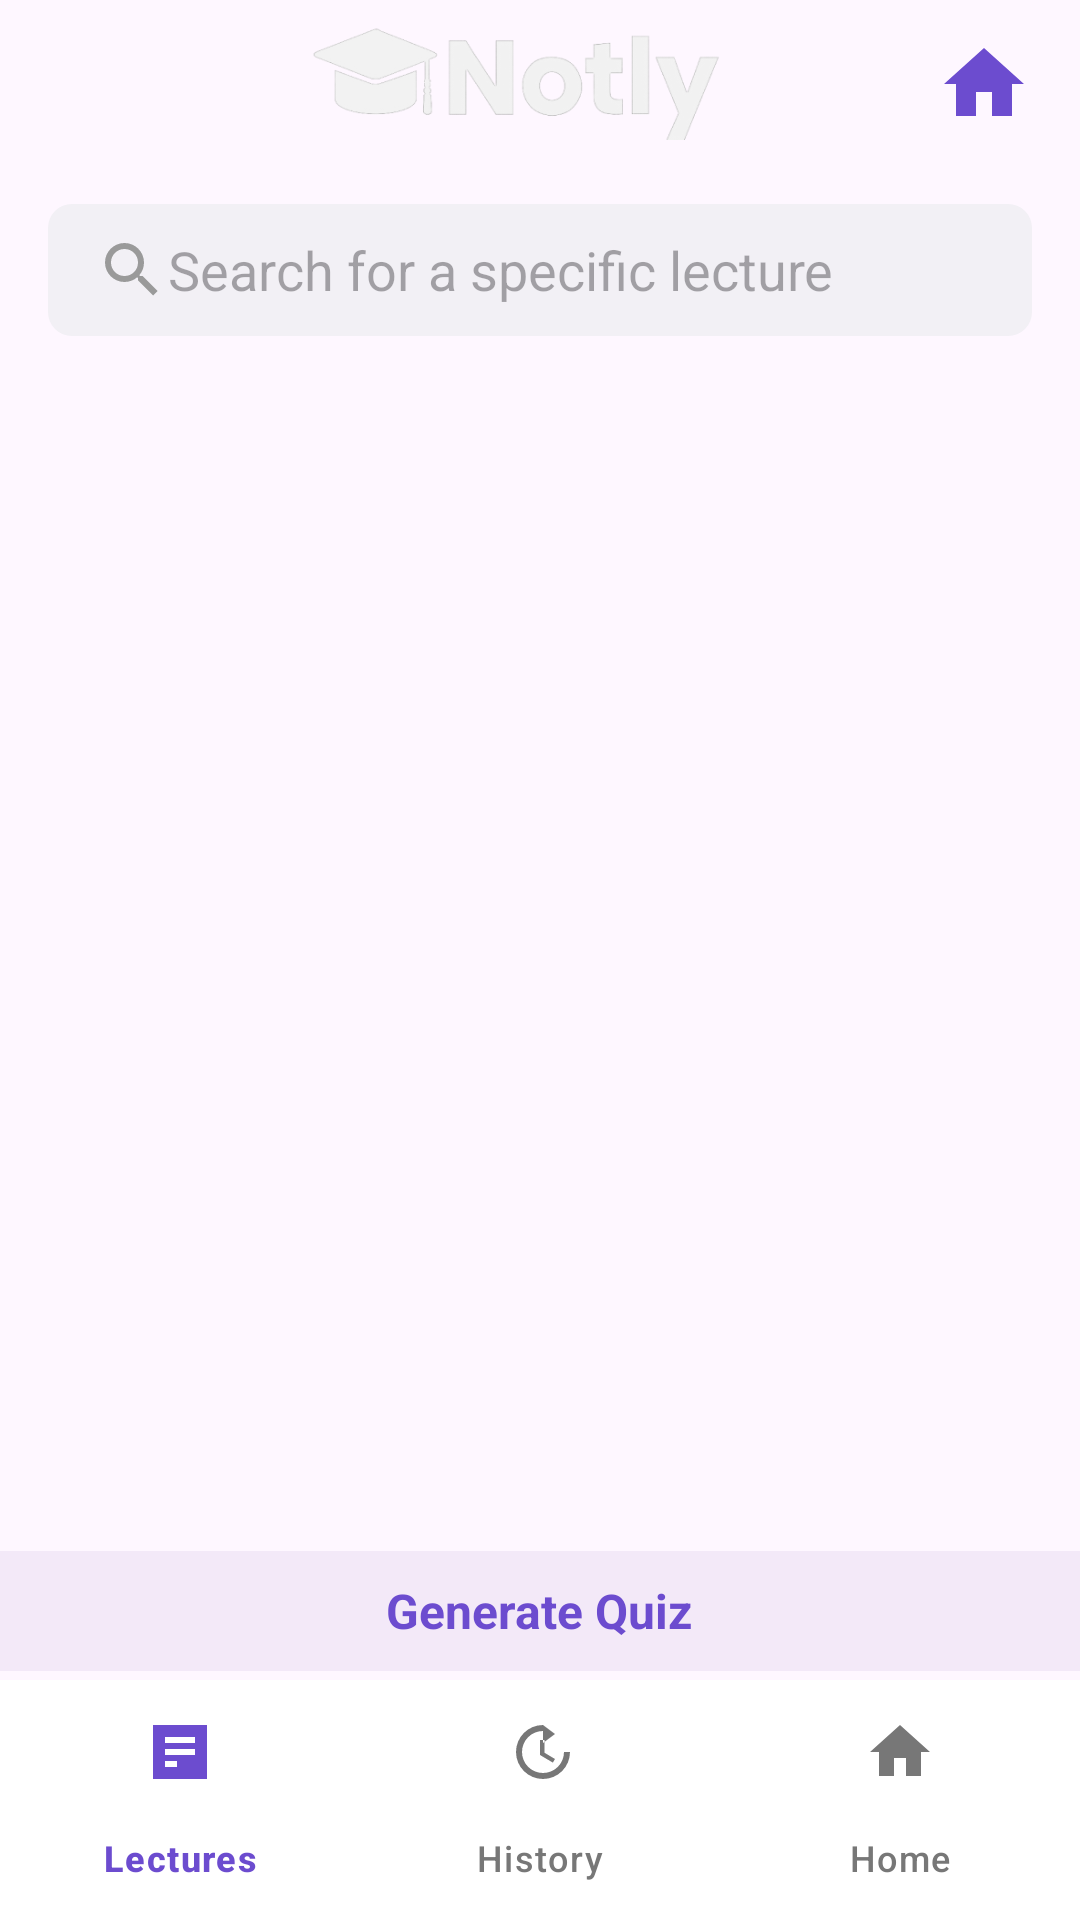

Screen size 1080px×1920px. Icon name, then its center in pixels as (x,y):
Home: (984,82)
